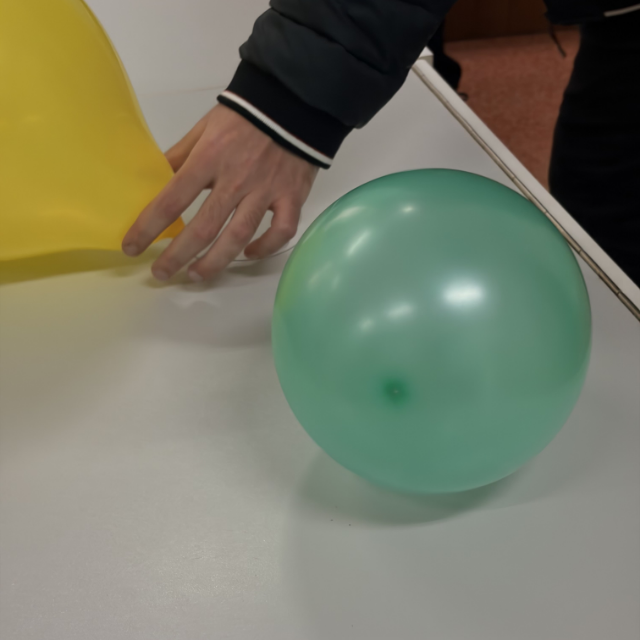balloon: (271, 168, 592, 496), (1, 0, 186, 261)
